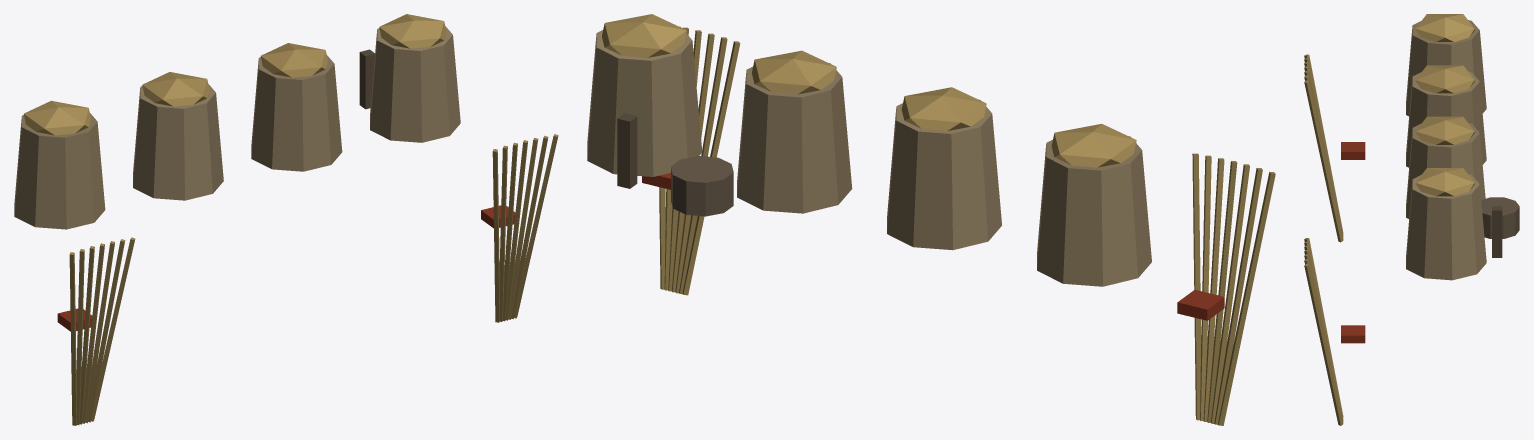
The model's file is goods_grain.glb.
3 views of the same model, side by side, from view 1: azimuth 30°, elevation 25°; view 2: azimuth 150°, elevation 25°; view 3: azimuth 270°, elevation 25° (orthographic). The views are drawn at different scales.
Visible parts, largest first — view 1: goods_grain; view 2: goods_grain; view 3: goods_grain.
Boxes of the visible parts, <box> form: goods_grain: <box>14,14,558,425</box>; goods_grain: <box>587,14,1275,425</box>; goods_grain: <box>1304,14,1519,425</box>.
Bounding box in the file's own units: 2.89 × 1.49 × 1.24.
